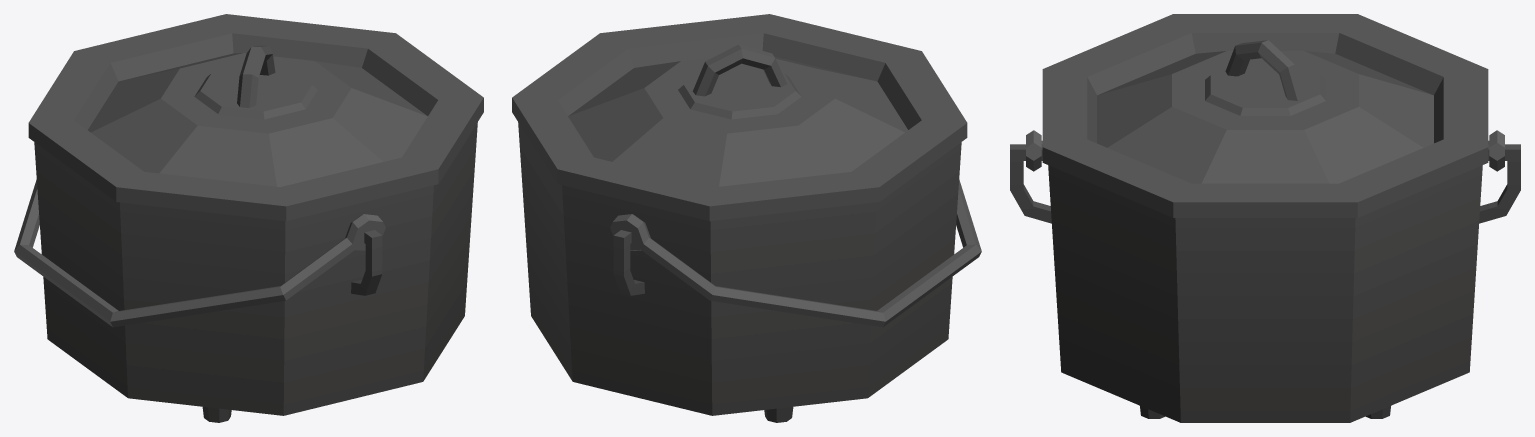
The model's file is CookingPot.fbx.
The picture shows the model from 3 angles, left to right: view 1: azimuth 30°, elevation 25°; view 2: azimuth 150°, elevation 25°; view 3: azimuth 270°, elevation 25°; orthographic projection. The views are drawn at different scales.
Visible parts, largest first — view 1: outdoor_cooking_pot_base, outdoor_cooking_pot_lid, outdoor_cooking_pot_handle; view 2: outdoor_cooking_pot_base, outdoor_cooking_pot_lid, outdoor_cooking_pot_handle; view 3: outdoor_cooking_pot_base, outdoor_cooking_pot_lid, outdoor_cooking_pot_handle.
Boxes of the visible parts, left/top/right/bottom form: outdoor_cooking_pot_base: left=34, top=122, right=477, bottom=422; outdoor_cooking_pot_lid: left=28, top=14, right=483, bottom=221; outdoor_cooking_pot_handle: left=14, top=180, right=385, bottom=327; outdoor_cooking_pot_base: left=518, top=122, right=961, bottom=422; outdoor_cooking_pot_lid: left=512, top=14, right=967, bottom=221; outdoor_cooking_pot_handle: left=610, top=180, right=981, bottom=327; outdoor_cooking_pot_base: left=1010, top=144, right=1520, bottom=422; outdoor_cooking_pot_lid: left=1042, top=14, right=1488, bottom=217; outdoor_cooking_pot_handle: left=1026, top=130, right=1504, bottom=171.
Size of the model in its own units: 29.03 by 22.74 by 32.37.
